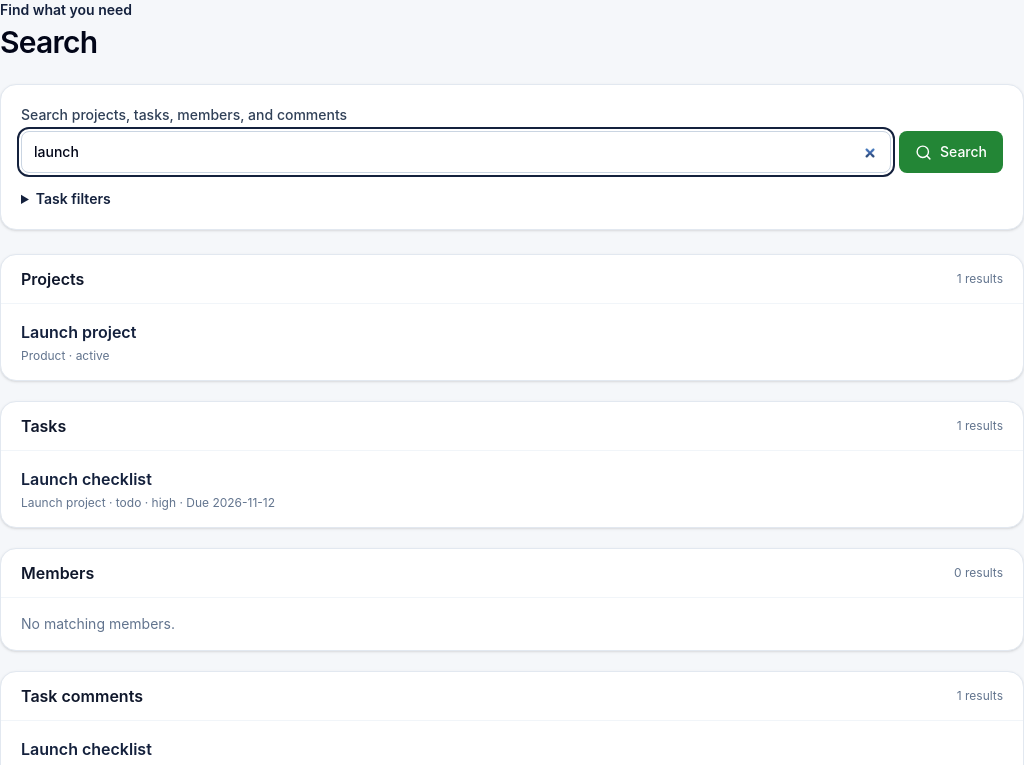
Scenario: global search › shows authorized result groups and links to matching records
Click the heading "Task filters" at coordinates (73, 198), box top-left (36, 190), bottom-right (111, 207)
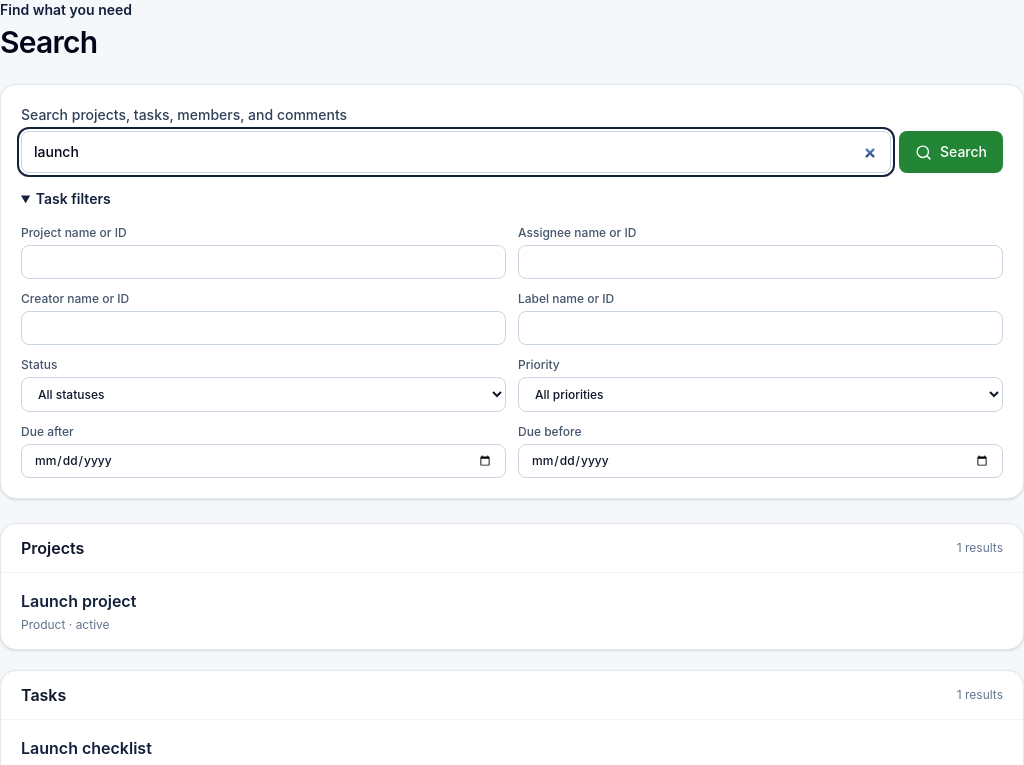
Now the search field labelled "Assignee name or ID" is shown, box top-left (518, 245), bottom-right (1003, 279)
